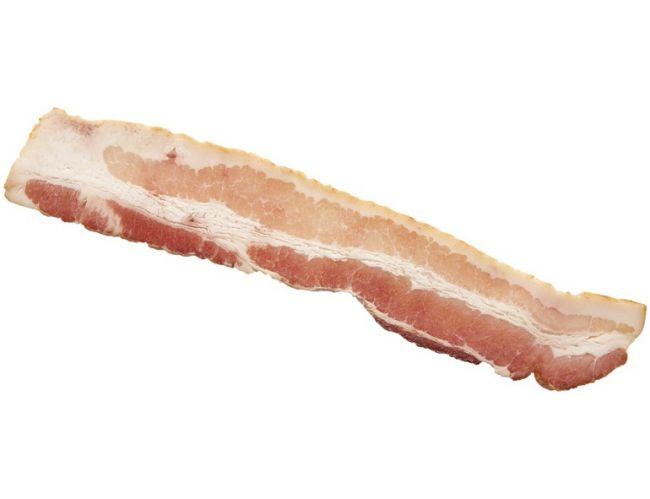bacon: (3, 87, 648, 406)
